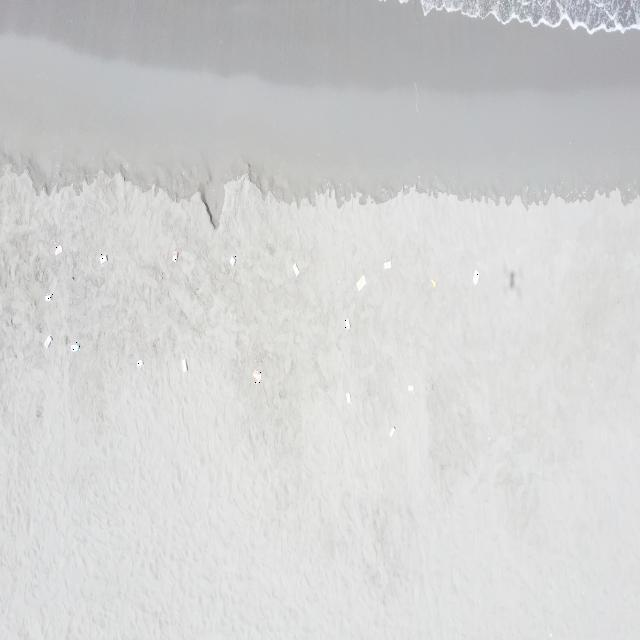Garbage: (355, 276, 364, 289), (180, 357, 187, 372), (70, 340, 79, 351), (253, 369, 260, 383), (472, 270, 479, 283), (292, 263, 299, 276), (99, 252, 107, 263), (44, 335, 51, 347), (171, 249, 178, 261), (55, 244, 62, 255), (388, 425, 395, 435), (344, 392, 350, 403), (344, 318, 350, 328), (383, 260, 391, 267), (44, 292, 51, 300), (228, 256, 236, 263), (136, 360, 143, 367), (407, 384, 412, 392), (432, 279, 435, 287)
